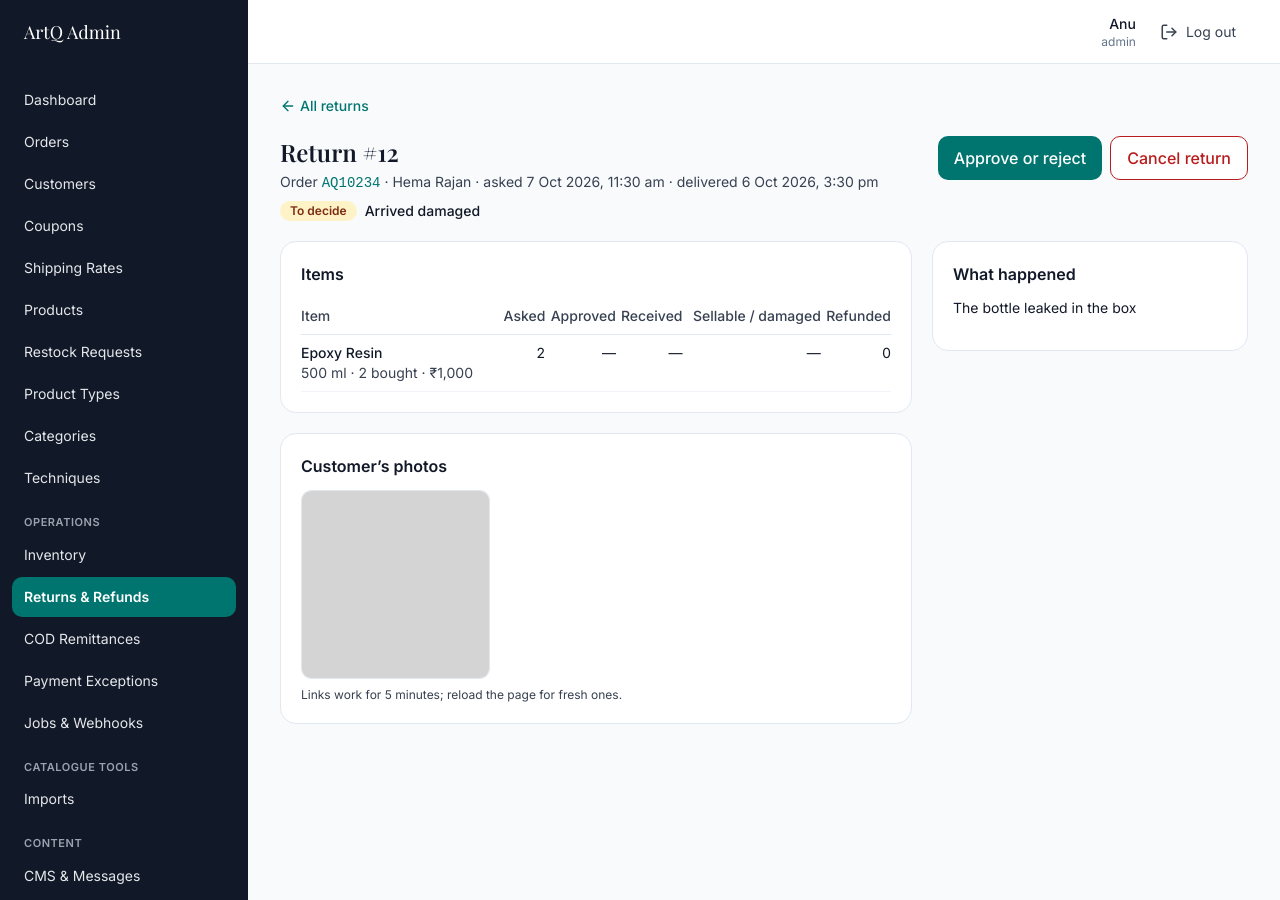
Test case: return page › cancel needs a reason; close confirms; an unknown return is not found
Click the button "Cancel return" at (1179, 158), box [1110,136,1248,180]
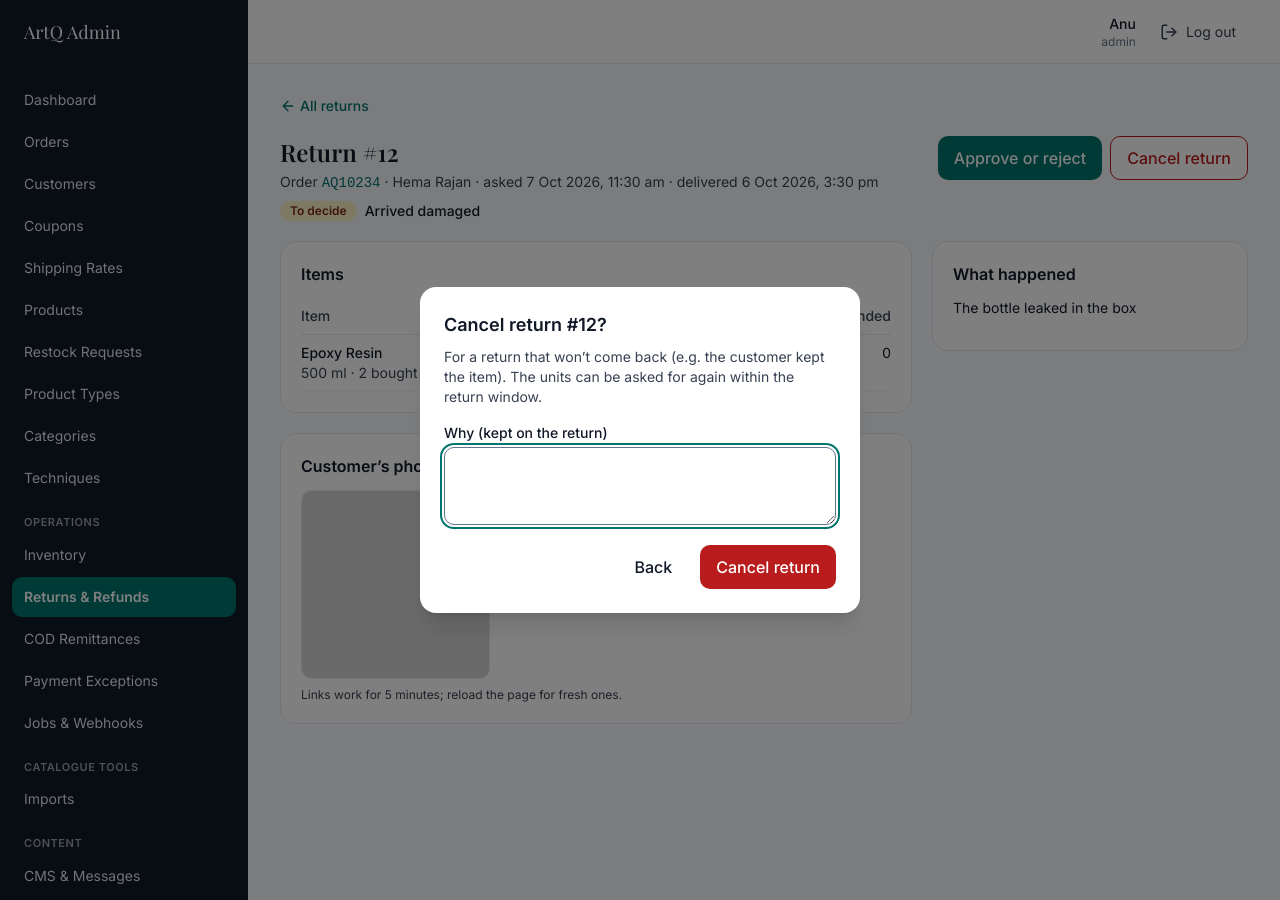
Click the button "Cancel return" at (768, 567), box [700,545,836,589]
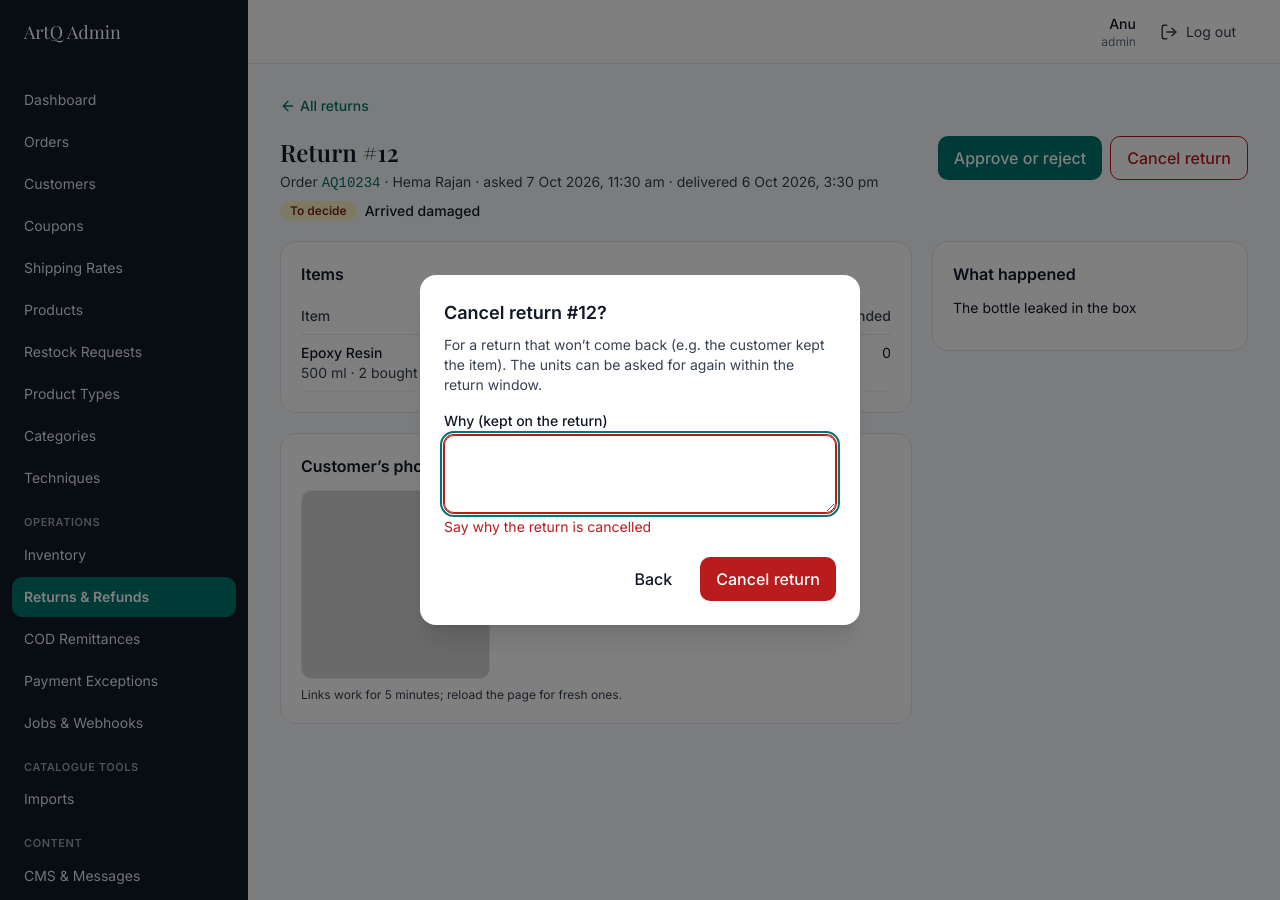
Expected: the text box labelled "Why (kept on the return)" is marked as invalid
Type "Customer kept it" into the text box labelled "Why (kept on the return)" at (640, 474), box [444,435,836,513]
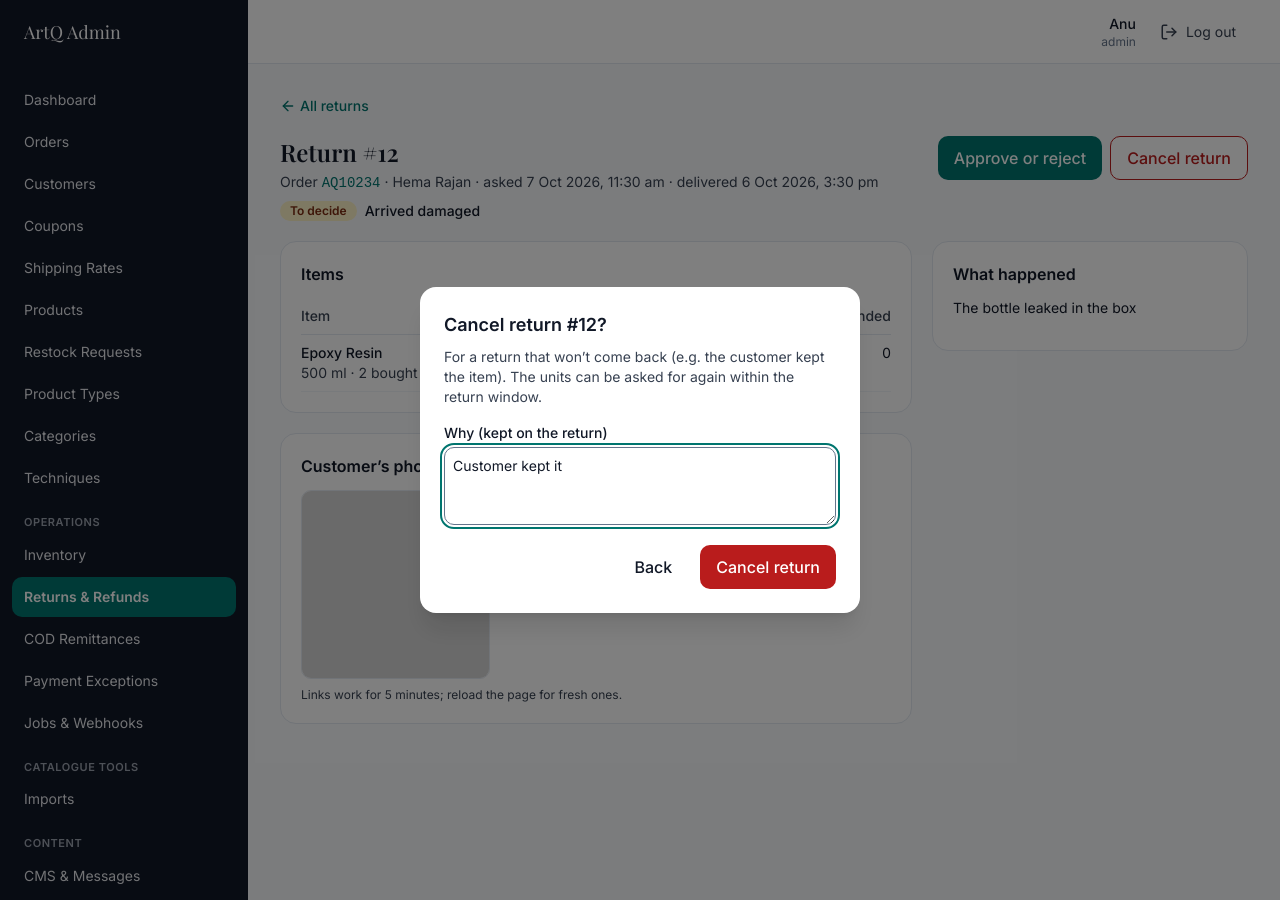
Click the button "Cancel return" at (768, 567), box [700,545,836,589]
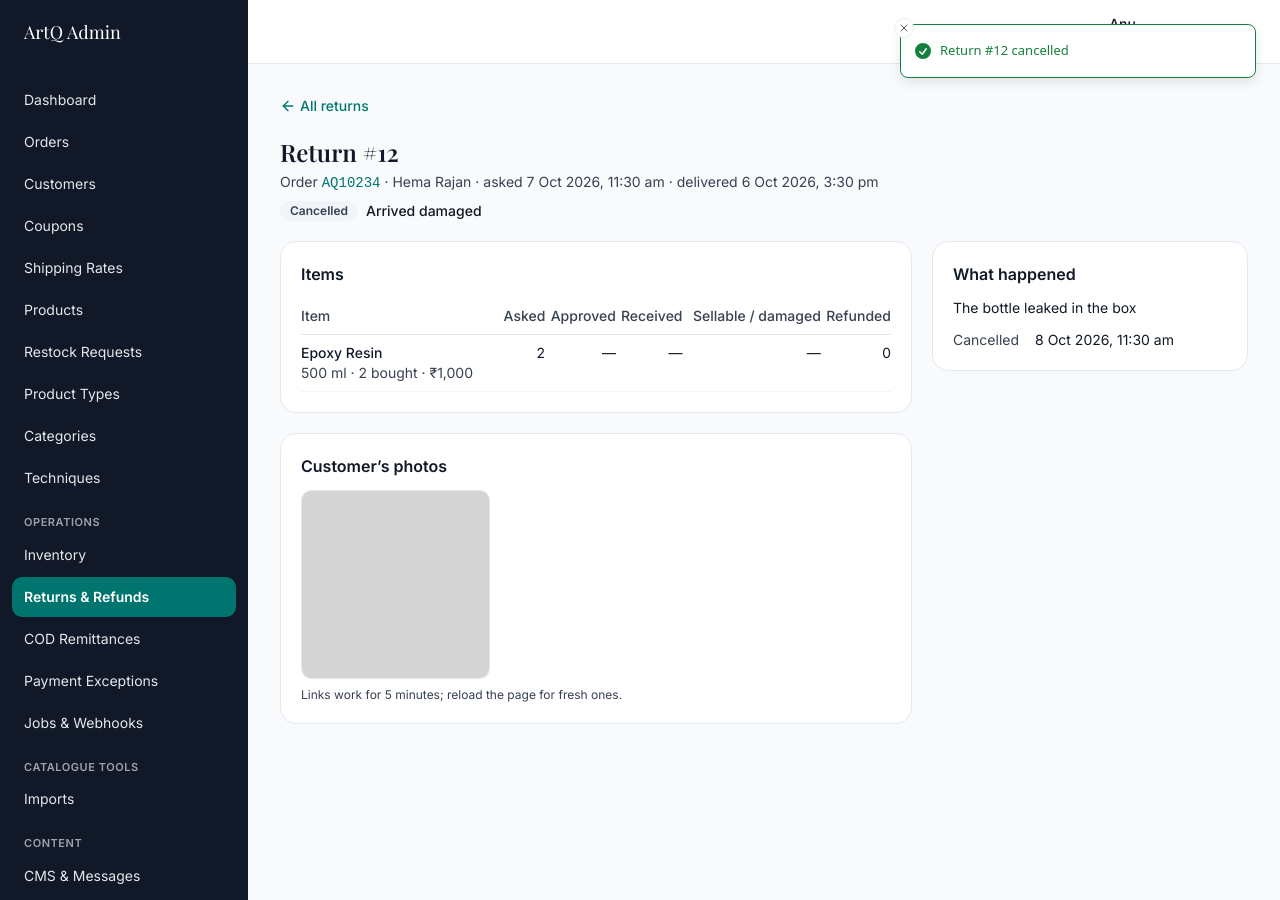
Expected: the text "Return #12 cancelled" is shown, [940,41,1069,60]
